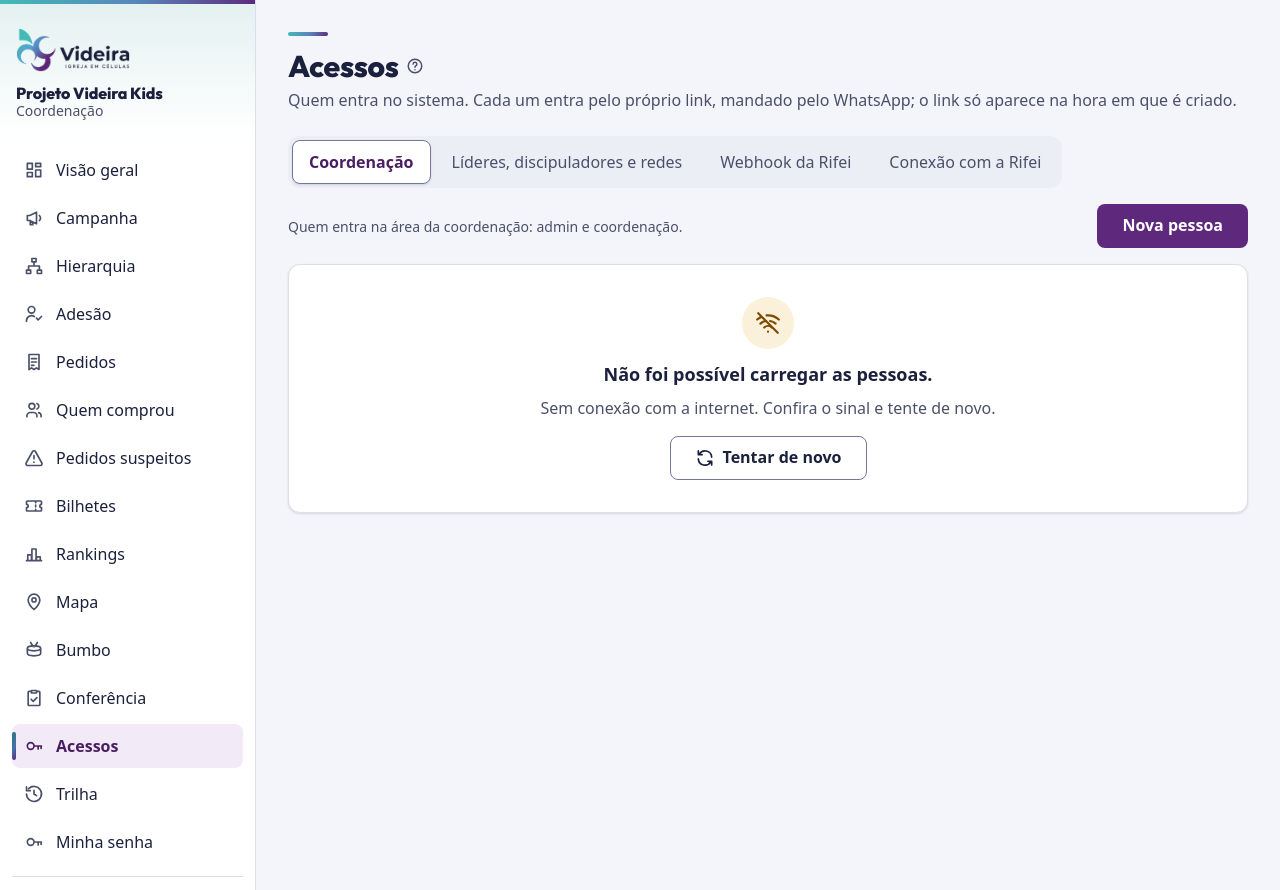
Test: CA5: lista de pessoas › falha ao carregar: mostra o erro e 'Tentar de novo' carrega
expect the message shows "Não foi possível carregar as pessoas.": met, box [604, 362, 932, 386]
Click the button "Tentar de novo" at (768, 458), box [670, 436, 866, 480]
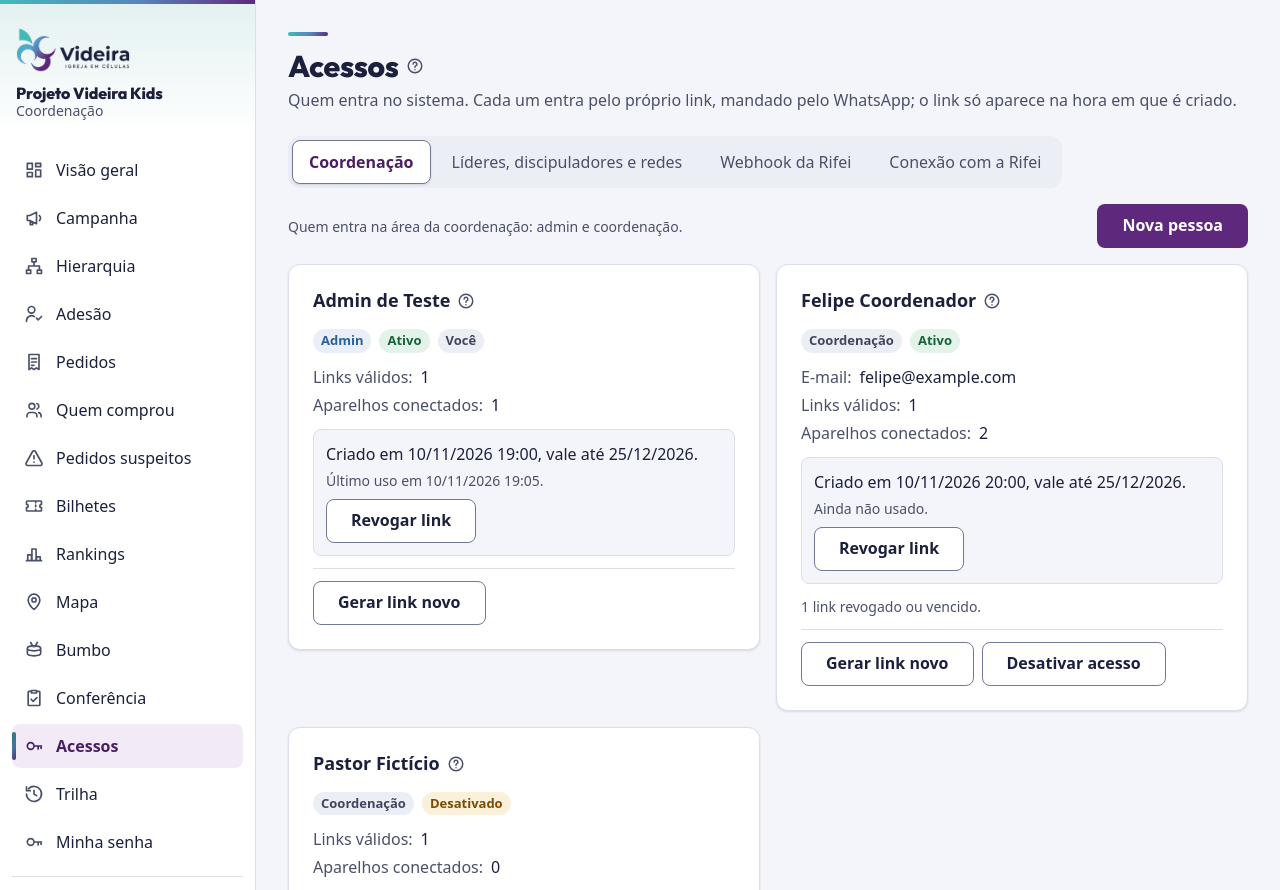
expect the heading "Admin de Teste" is shown: met, box [313, 290, 450, 312]
